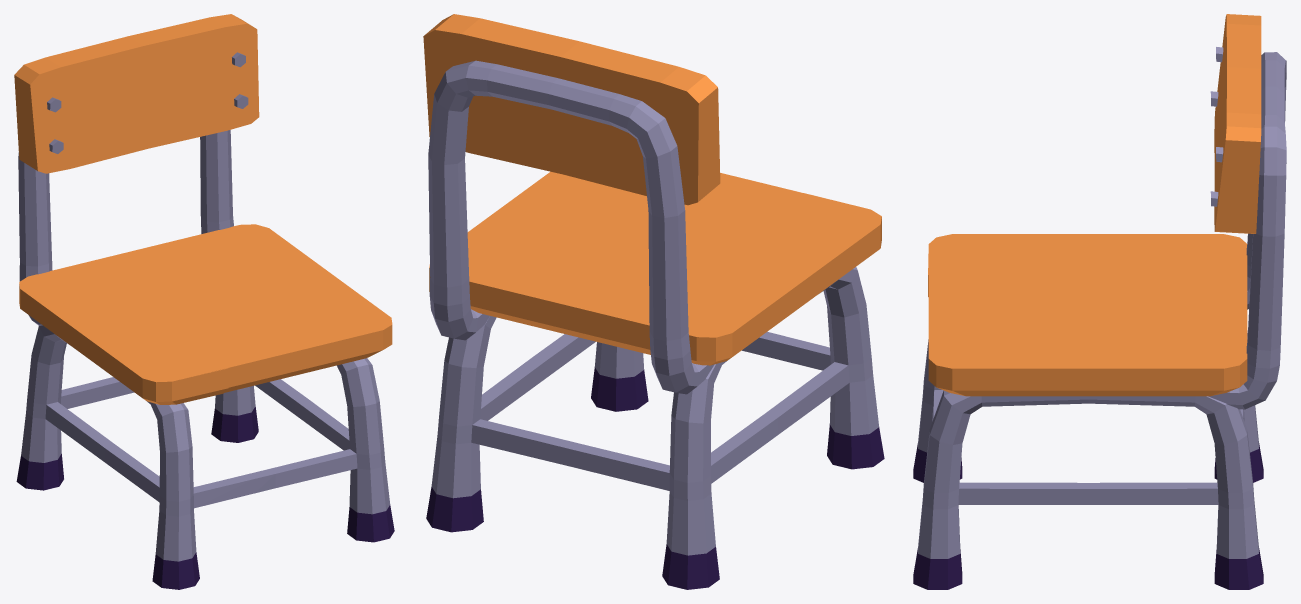
The model's file is Chair.fbx.
3 views of the same model, side by side, from view 1: azimuth 30°, elevation 25°; view 2: azimuth 150°, elevation 25°; view 3: azimuth 270°, elevation 25° (orthographic). The views are drawn at different scales.
Parts seen in each view (by area): view 1: Model, ChairPiece1, ChairPiece2, ChairPiece3; view 2: Model, ChairPiece3, ChairPiece1, ChairPiece2; view 3: Model, ChairPiece3, ChairPiece1, ChairPiece2.
Boxes of the visible parts, box(x1,y1,x2,y2) form: Model: box(14, 57, 385, 587); ChairPiece1: box(14, 14, 259, 235); ChairPiece2: box(16, 233, 253, 589); ChairPiece3: box(112, 137, 394, 542); Model: box(423, 30, 884, 589); ChairPiece3: box(432, 171, 790, 529); ChairPiece1: box(424, 14, 720, 301); ChairPiece2: box(494, 195, 883, 587); Model: box(927, 52, 1286, 589); ChairPiece3: box(913, 262, 1274, 589); ChairPiece1: box(1210, 14, 1282, 261); ChairPiece2: box(913, 233, 1261, 482).
Size of the model in its own units: 7054 by 11230 by 8263.
